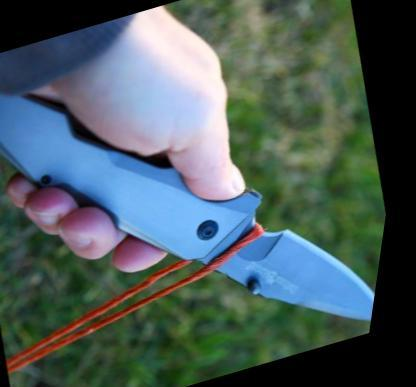knife: (170, 121, 402, 375)
